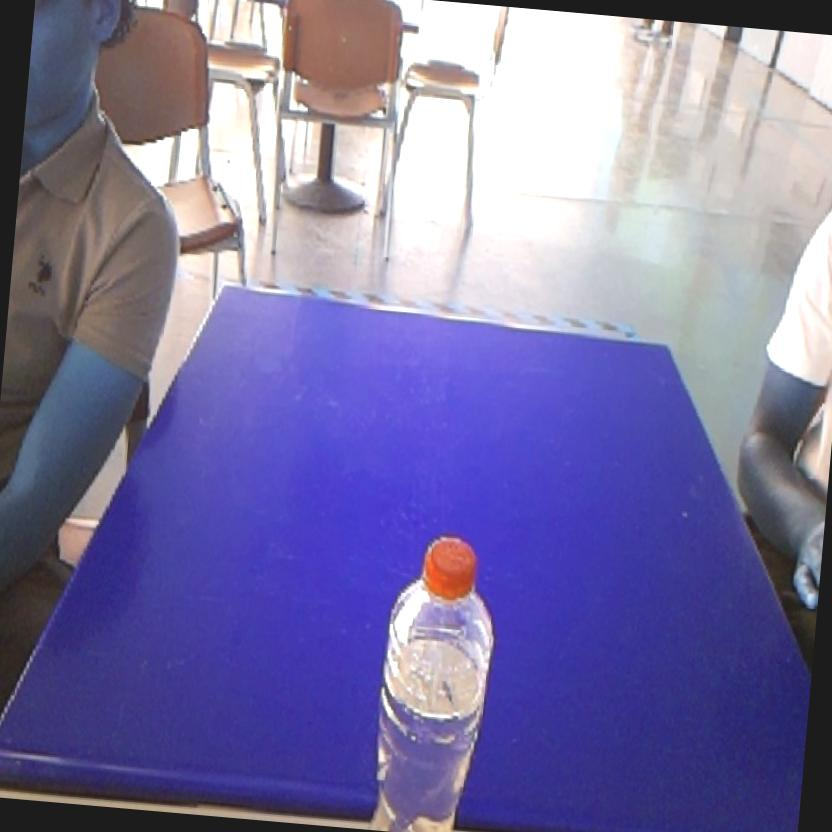no_label: (357, 519, 511, 832)
